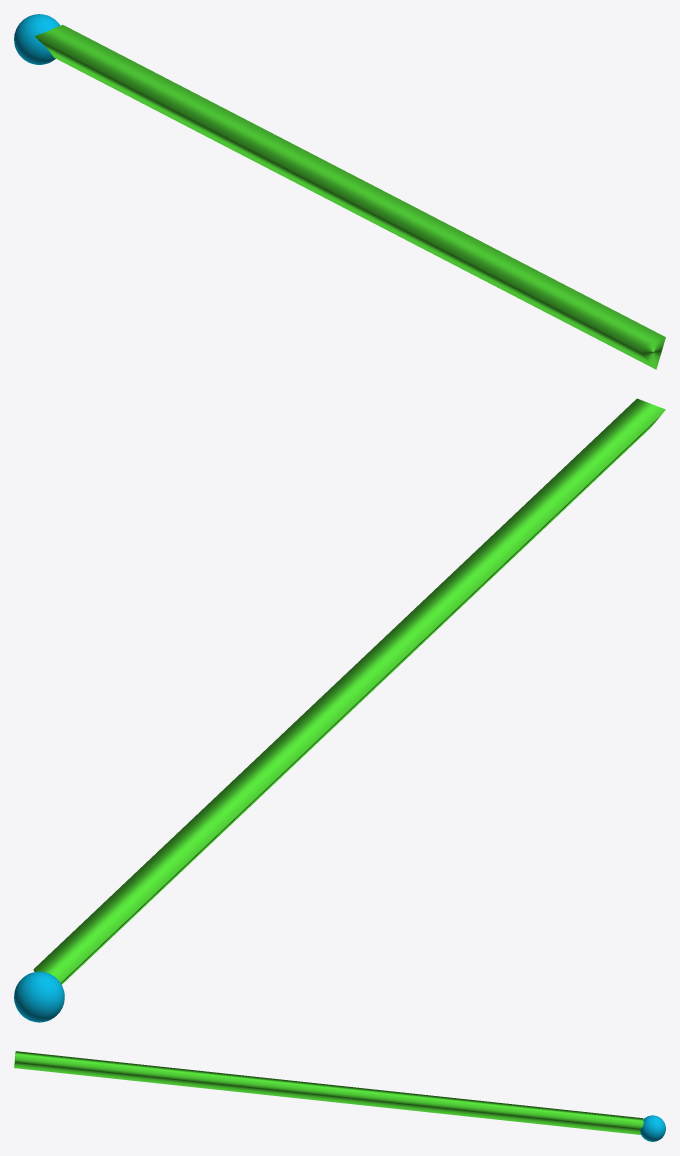
The model's file is reacher_Nov22.glb.
The picture shows the model from 3 angles, top to bottom: view 1: azimuth 30°, elevation 25°; view 2: azimuth 150°, elevation 25°; view 3: azimuth 270°, elevation 25°; orthographic projection. The views are drawn at different scales.
Visible parts, largest first — view 1: reacher, grabber; view 2: reacher, grabber; view 3: reacher, grabber.
Boxes of the visible parts, left/top/right/bottom form: reacher: left=34, top=25, right=665, bottom=369; grabber: left=14, top=14, right=60, bottom=64; reacher: left=33, top=398, right=665, bottom=984; grabber: left=14, top=971, right=64, bottom=1022; reacher: left=14, top=1051, right=643, bottom=1134; grabber: left=640, top=1115, right=665, bottom=1141.
Size of the model in its own units: 0.0145 by 0.0532 by 0.3558.
